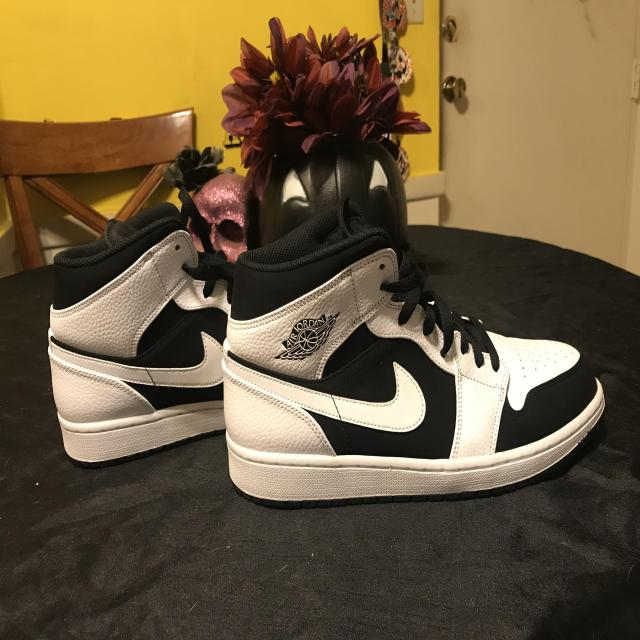shoe: (218, 181, 615, 523), (38, 200, 240, 490)
